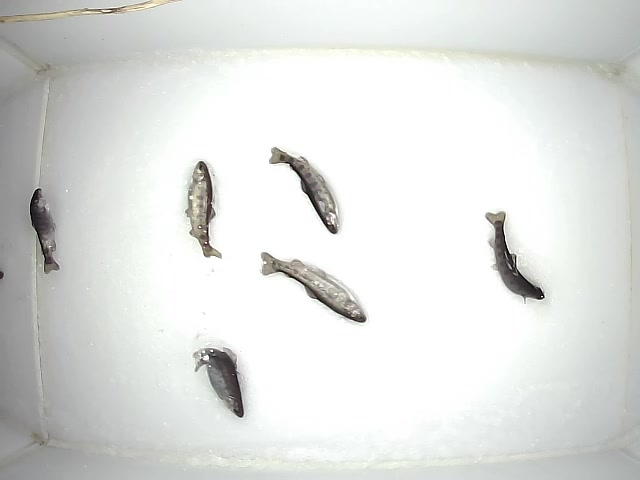fish: (260, 251, 370, 326), (268, 146, 339, 236), (483, 210, 547, 306), (189, 344, 245, 420), (182, 161, 224, 258), (28, 184, 60, 274)
